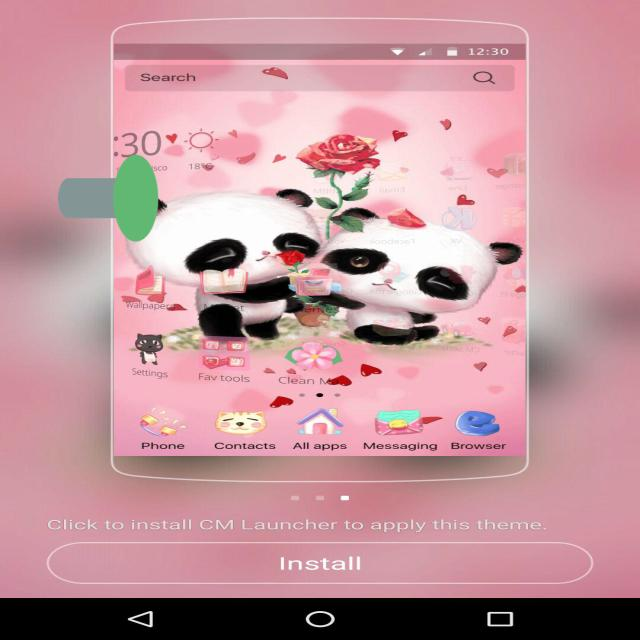social proof: (58, 101, 158, 295)
